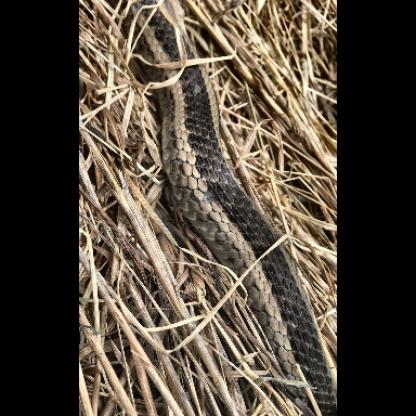Snake: (126, 1, 339, 411)
